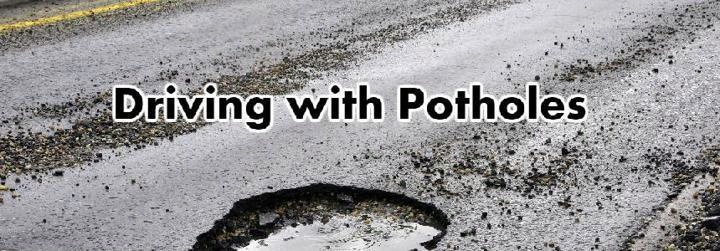pothole: (182, 179, 452, 249)
